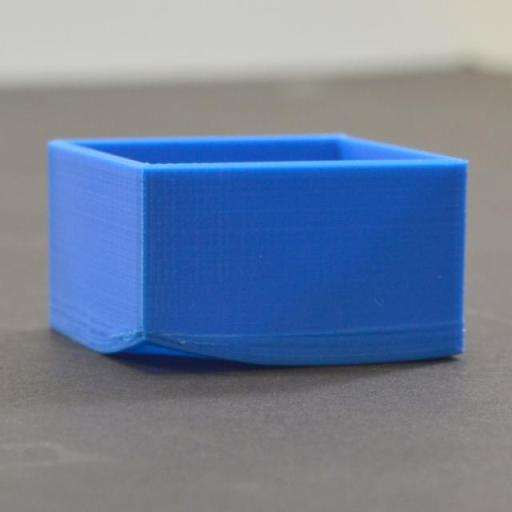cracks: (76, 313, 277, 380)
